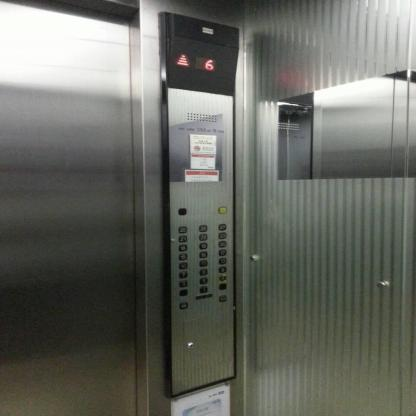1: (198, 285, 208, 293)
10: (178, 261, 188, 269)
11: (198, 259, 208, 267)
12: (217, 257, 227, 264)
15: (178, 252, 188, 260)
16: (198, 250, 208, 258)
17: (217, 248, 227, 256)
18: (178, 244, 188, 252)
19: (198, 242, 208, 249)
20: (218, 240, 227, 247)
21: (177, 235, 188, 242)
22: (198, 233, 208, 241)
23: (217, 232, 227, 240)
25: (177, 225, 188, 233)
26: (198, 224, 208, 232)
27: (217, 223, 227, 230)
3: (178, 279, 188, 287)
5: (198, 276, 208, 284)
6: (218, 274, 227, 282)
7: (178, 270, 188, 279)
8: (198, 268, 208, 275)
9: (217, 265, 227, 273)
alarm: (218, 206, 227, 214)
close: (218, 294, 227, 302)
empty: (177, 207, 187, 215), (178, 288, 188, 296), (218, 282, 227, 290)
led: (173, 52, 232, 72)
open: (178, 301, 189, 309)
